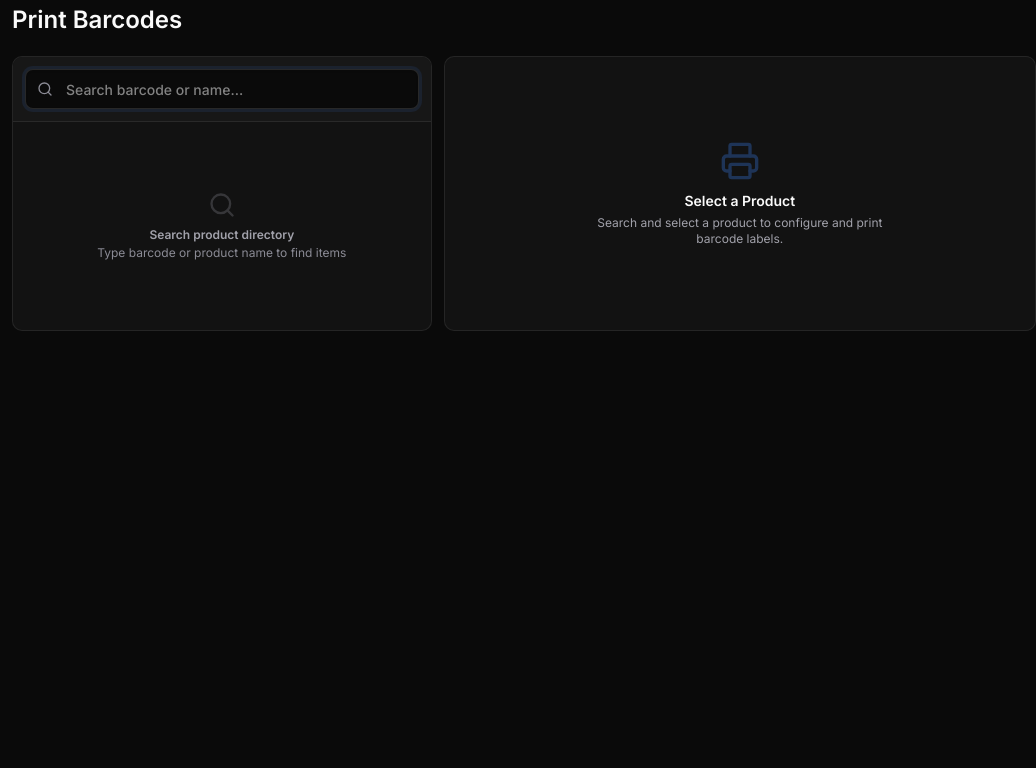
Billable Accounts Enhancements › WorkerPrintBarcode renders directory search, batch info, and print button
expect the heading "Print Barcodes" is shown: met, box [12, 5, 182, 35]
expect the text "Type barcode or product name to find items" is shown: met, box [97, 245, 346, 261]
Note: Type in search query to show items
In the field with placeholder "Search barcode or name...": [222, 89] box [25, 69, 419, 109], type "Brass"
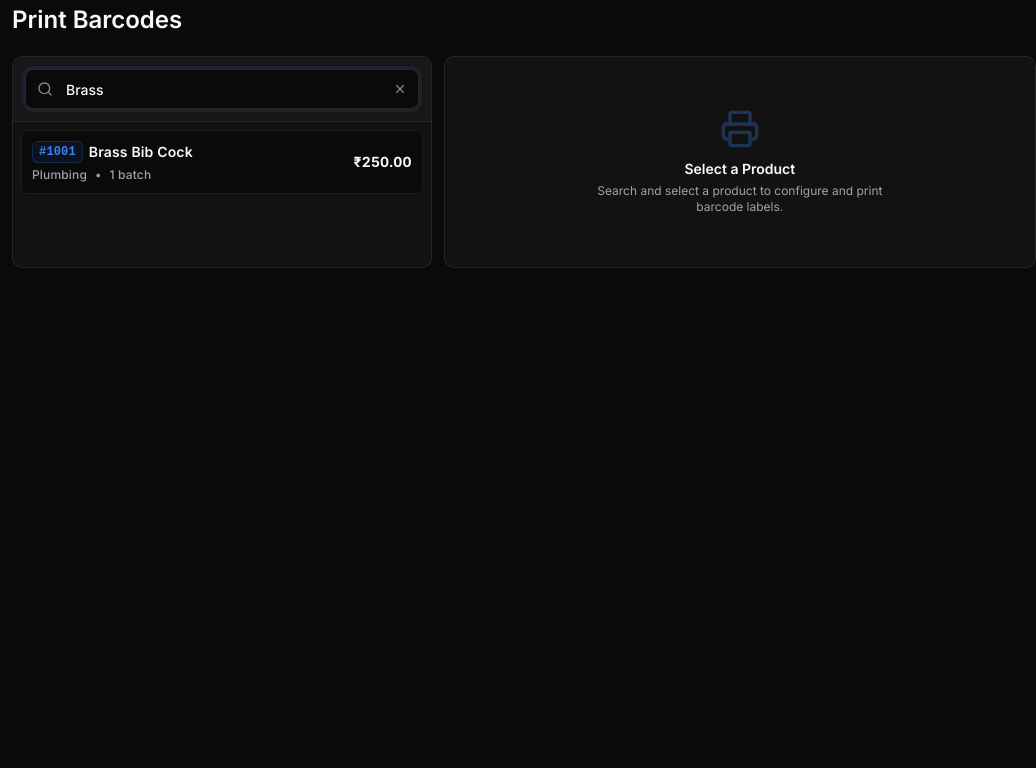
expect the text "Brass Bib Cock" is shown: met, box [89, 142, 193, 162]
Note: Select the product from the search results
Click the button "Brass Bib Cock": [57, 152] box [21, 130, 423, 194]
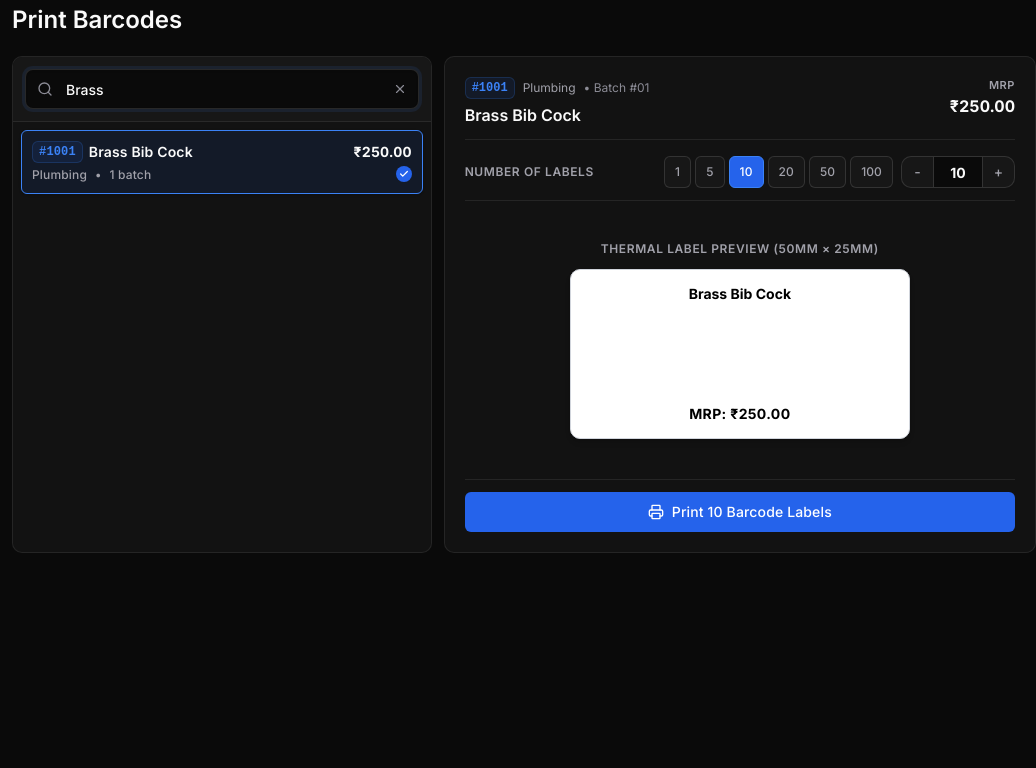
expect the text "Number of Labels" is shown: met, box [465, 164, 594, 180]
expect the text "Print 10 Barcode Labels" is shown: met, box [672, 502, 832, 522]
